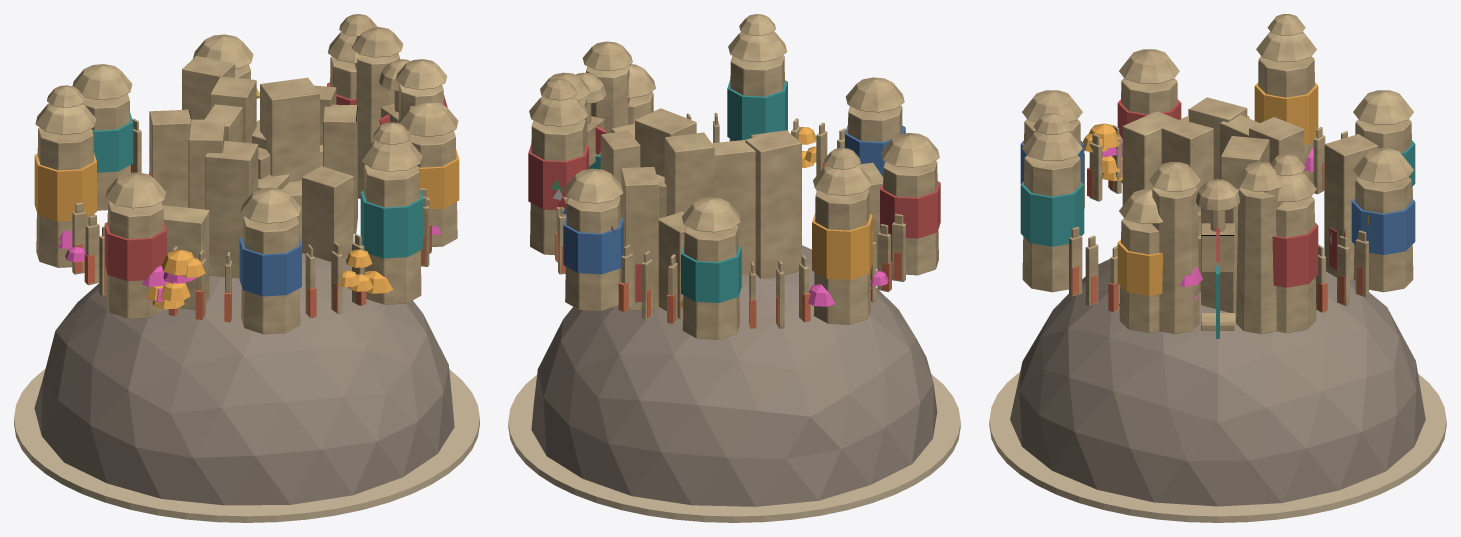
File: jaisalmer_fort.glb
3 views of the same model, side by side, from view 1: azimuth 30°, elevation 25°; view 2: azimuth 150°, elevation 25°; view 3: azimuth 270°, elevation 25° (orthographic). The views are drawn at different scales.
Visible parts, largest first — view 1: FortArchitecture, Hill, Ground, BastionBand_292.5, BastionBand_157.5, BastionBand_247.5, BastionBand_202.5, BastionBand_112.5, BastionBand_337.5, Bougain_220_4; view 2: Hill, FortArchitecture, Ground, BastionBand_157.5, BastionBand_292.5, BastionBand_112.5, BastionBand_67.5, BastionBand_202.5, BastionBand_22.5, BastionBand_247.5; view 3: FortArchitecture, Hill, Ground, BastionBand_292.5, BastionBand_67.5, BastionBand_22.5, BastionBand_157.5, BastionBand_337.5, BastionBand_202.5.
Boxes of the visible parts, left/top/right/bottom form: FortArchitecture: left=35, top=14, right=458, bottom=334; Hill: left=34, top=253, right=454, bottom=505; Ground: left=14, top=368, right=479, bottom=522; BastionBand_292.5: left=360, top=189, right=423, bottom=258; BastionBand_157.5: left=34, top=153, right=96, bottom=221; BastionBand_247.5: left=239, top=237, right=301, bottom=296; BastionBand_202.5: left=104, top=221, right=166, bottom=281; BastionBand_112.5: left=92, top=112, right=133, bottom=172; BastionBand_337.5: left=418, top=149, right=459, bottom=209; Bougain_220_4: left=161, top=250, right=193, bottom=275; Hill: left=531, top=245, right=937, bottom=506; FortArchitecture: left=529, top=14, right=939, bottom=339; Ground: left=508, top=374, right=960, bottom=522; BastionBand_157.5: left=812, top=213, right=872, bottom=279; BastionBand_292.5: left=727, top=79, right=787, bottom=140; BastionBand_112.5: left=681, top=244, right=741, bottom=302; BastionBand_67.5: left=563, top=216, right=623, bottom=274; BastionBand_202.5: left=880, top=181, right=940, bottom=238; BastionBand_22.5: left=528, top=144, right=588, bottom=210; BastionBand_247.5: left=845, top=125, right=905, bottom=176; FortArchitecture: left=1022, top=14, right=1413, bottom=334; Hill: left=1010, top=259, right=1425, bottom=506; Ground: left=989, top=372, right=1446, bottom=522; BastionBand_292.5: left=1020, top=181, right=1084, bottom=246; BastionBand_67.5: left=1351, top=198, right=1415, bottom=254; BastionBand_22.5: left=1272, top=222, right=1318, bottom=287; BastionBand_157.5: left=1254, top=82, right=1318, bottom=144; BastionBand_337.5: left=1117, top=239, right=1162, bottom=295; BastionBand_202.5: left=1117, top=99, right=1181, bottom=138.
Size of the model in its own units: 19 by 15.65 by 19.
Materials: 15 (1 with a texture image).
